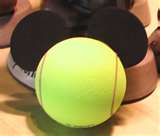tennis ball: (34, 36, 127, 128)
